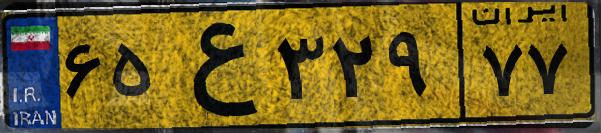2: (330, 28, 385, 110)
3: (270, 28, 330, 110)
5: (110, 28, 158, 98)
6: (57, 26, 110, 100)
7: (475, 38, 525, 113), (525, 38, 570, 115)
9: (385, 28, 445, 110)
ع: (158, 12, 270, 120)
